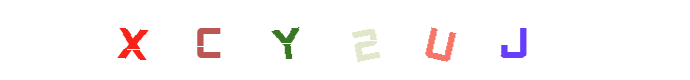2: (306, 0, 386, 80)
C: (246, 0, 326, 80)
J: (476, 0, 556, 80)
U: (314, 0, 394, 80)
X: (92, 0, 172, 80)
Y: (282, 0, 362, 80)
